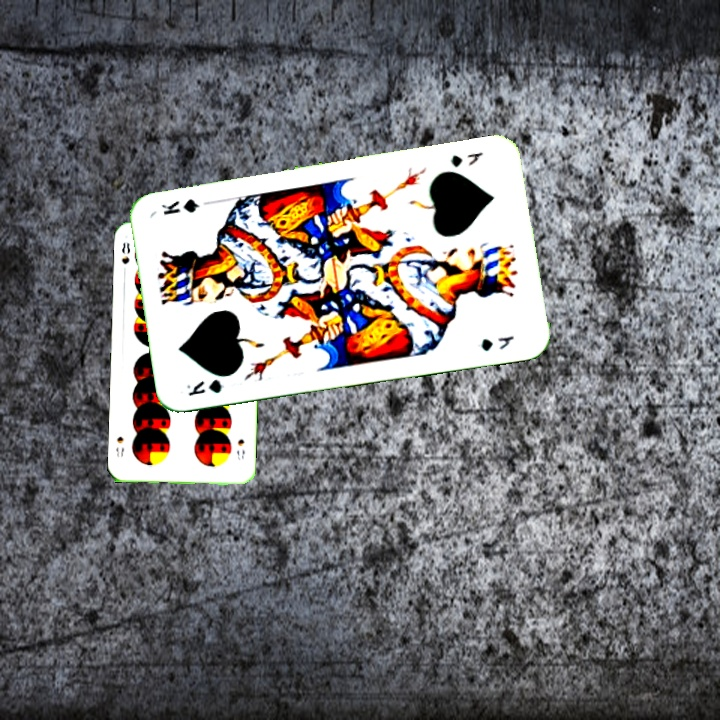GK: (182, 375, 225, 399), (447, 148, 485, 170)
S8: (118, 239, 133, 277), (232, 435, 248, 462)
